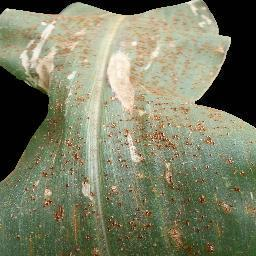Corn_Common_Rust: (9, 102, 256, 256), (0, 1, 237, 102)
